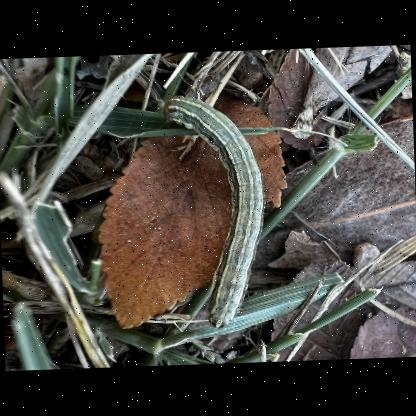Fall Armyworm Larvae: (157, 89, 274, 336)
